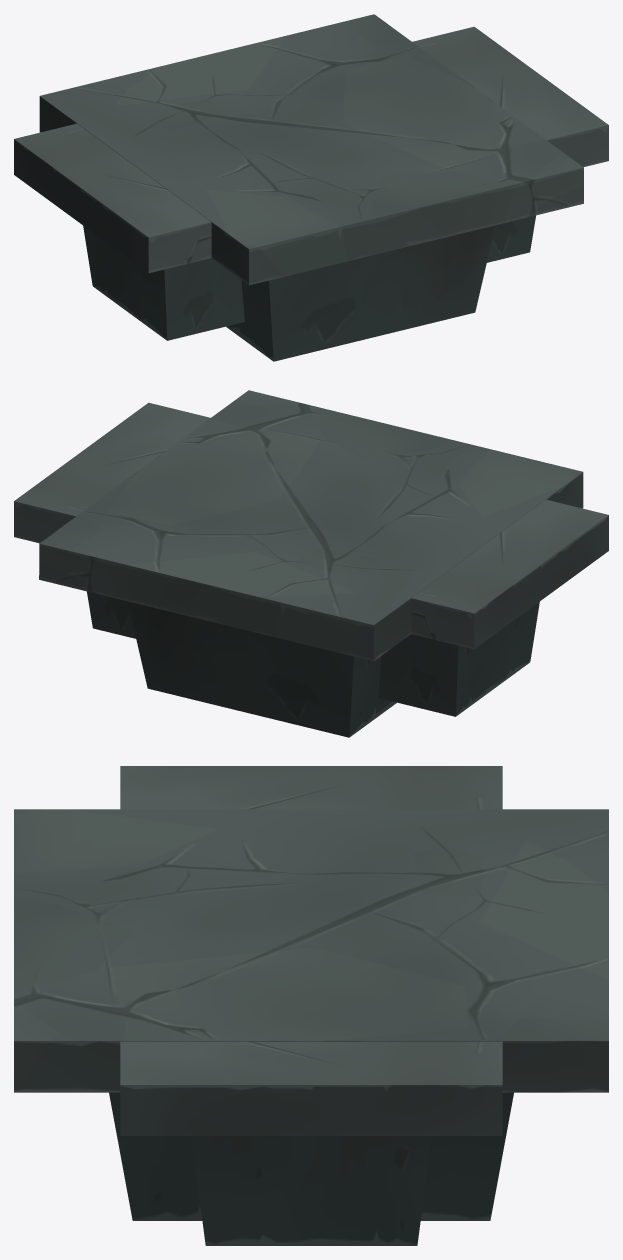
The model's file is Dg_01_StoneObjects_017.FBX.
The picture shows the model from 3 angles, top to bottom: view 1: azimuth 30°, elevation 25°; view 2: azimuth 150°, elevation 25°; view 3: azimuth 270°, elevation 25°; orthographic projection. The views are drawn at different scales.
Visible parts, largest first — view 1: Dg_01_StoneObjects_017; view 2: Dg_01_StoneObjects_017; view 3: Dg_01_StoneObjects_017.
Part boxes in pixels (x1,y1,x2,y2): Dg_01_StoneObjects_017: (14, 14, 608, 361); Dg_01_StoneObjects_017: (14, 390, 608, 737); Dg_01_StoneObjects_017: (14, 766, 608, 1245).
Bounding box in the file's own units: 3.33 × 1.1 × 2.62.
